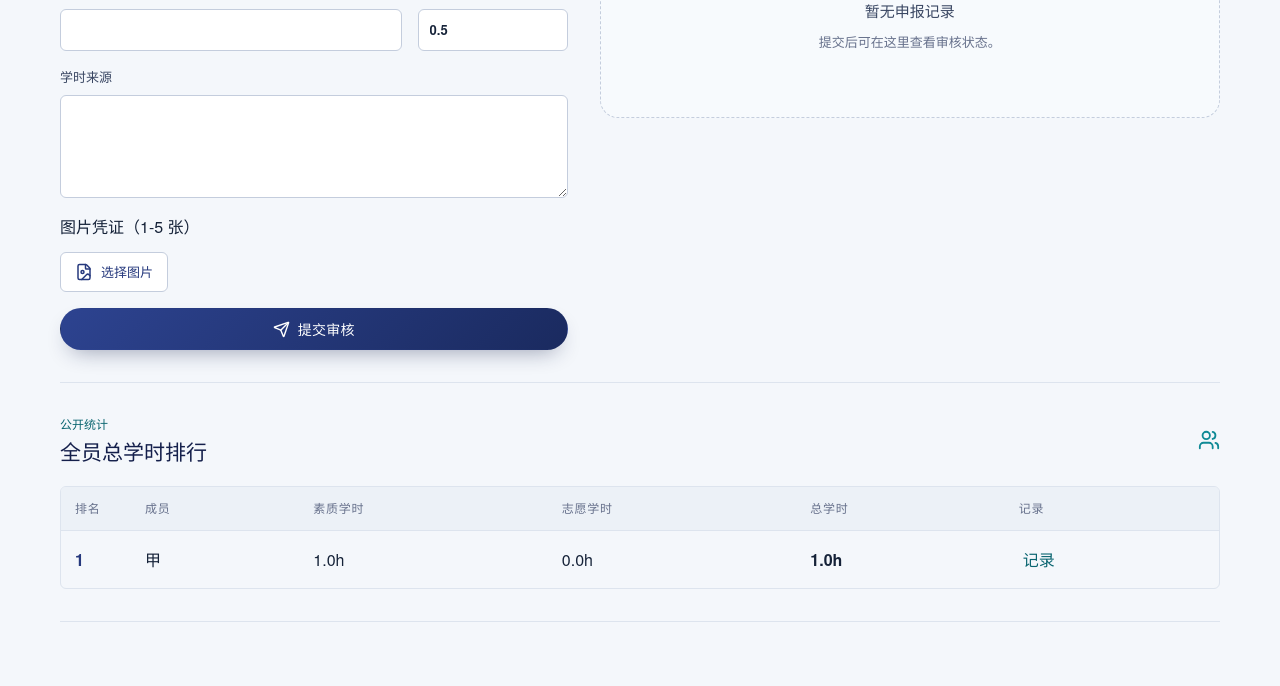
Test: CreditHoursView safety › shows a retryable public error instead of an endless loading spinner
(page scrolled)
Click the button "记录": (1039, 560) [1019,543,1059,576]
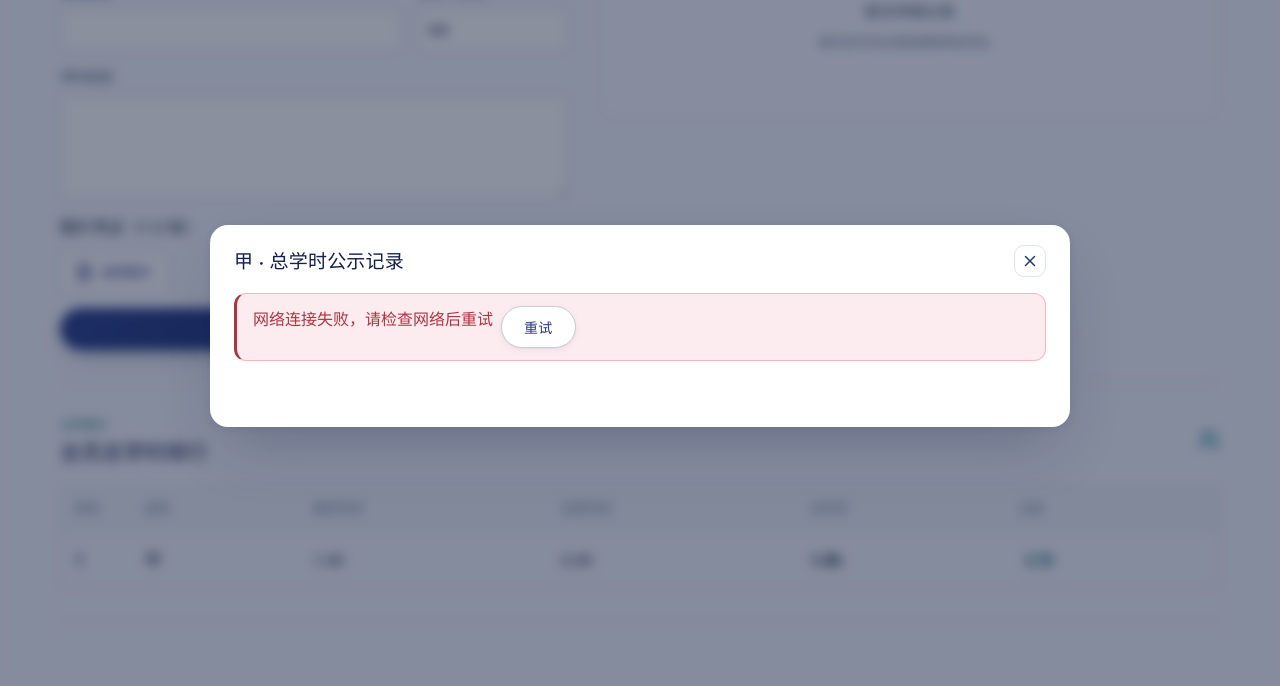
Now the message "网络连接失败，请检查网络后重试 重试" is shown, box [234,293,1046,361]
